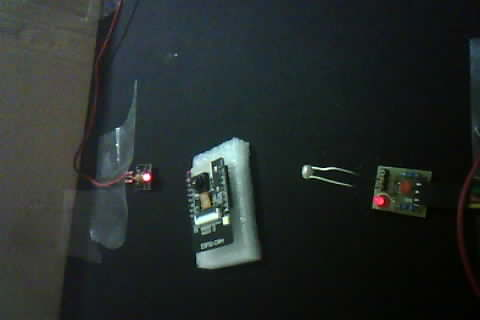esp32: (181, 145, 256, 263)
